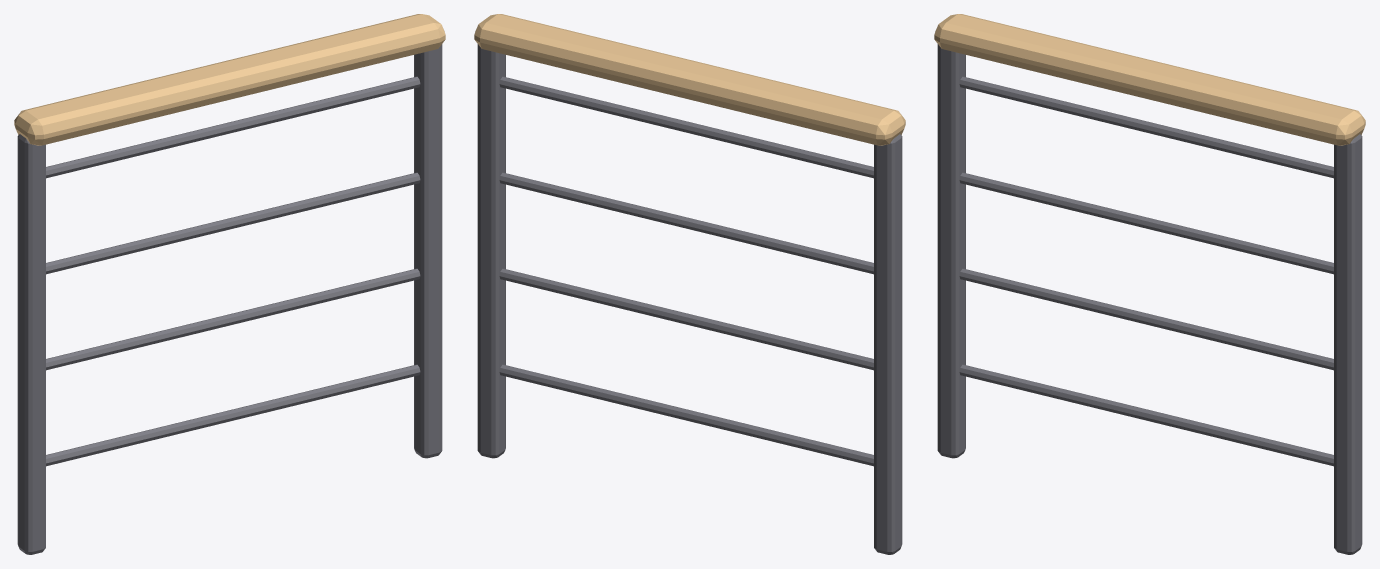
File: cozy-home-interiors-balcony-rail-1m-93583df7.glb
The picture shows the model from 3 angles, left to right: view 1: azimuth 30°, elevation 25°; view 2: azimuth 150°, elevation 25°; view 3: azimuth 330°, elevation 25°; orthographic projection.
Visible parts, largest first — view 1: balcony-rail-1m; view 2: balcony-rail-1m; view 3: balcony-rail-1m.
Boxes of the visible parts, x1,y1,x2,y2 form: balcony-rail-1m: [14, 14, 445, 554]; balcony-rail-1m: [474, 14, 905, 554]; balcony-rail-1m: [934, 14, 1365, 554].
Size of the model in its own units: 1 by 0.9999 by 0.1.
